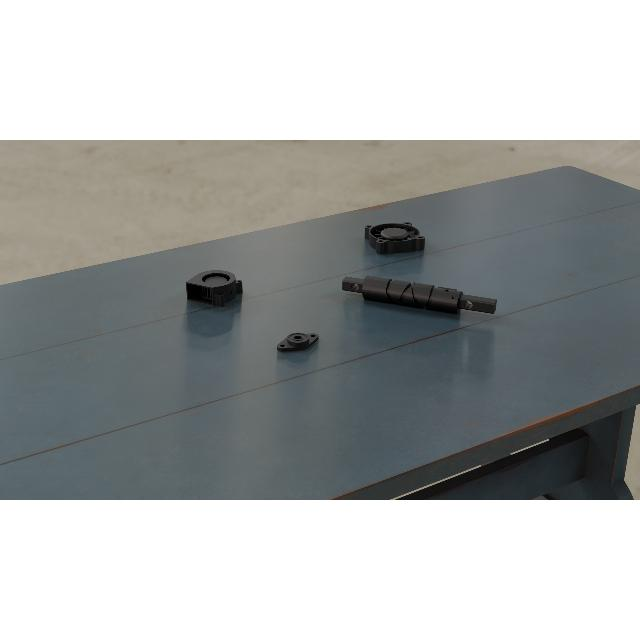Pieza1: (341, 269, 499, 323)
Pieza2: (270, 326, 326, 356)
Pieza3: (185, 268, 245, 308)
Pieza4: (363, 221, 427, 255)
